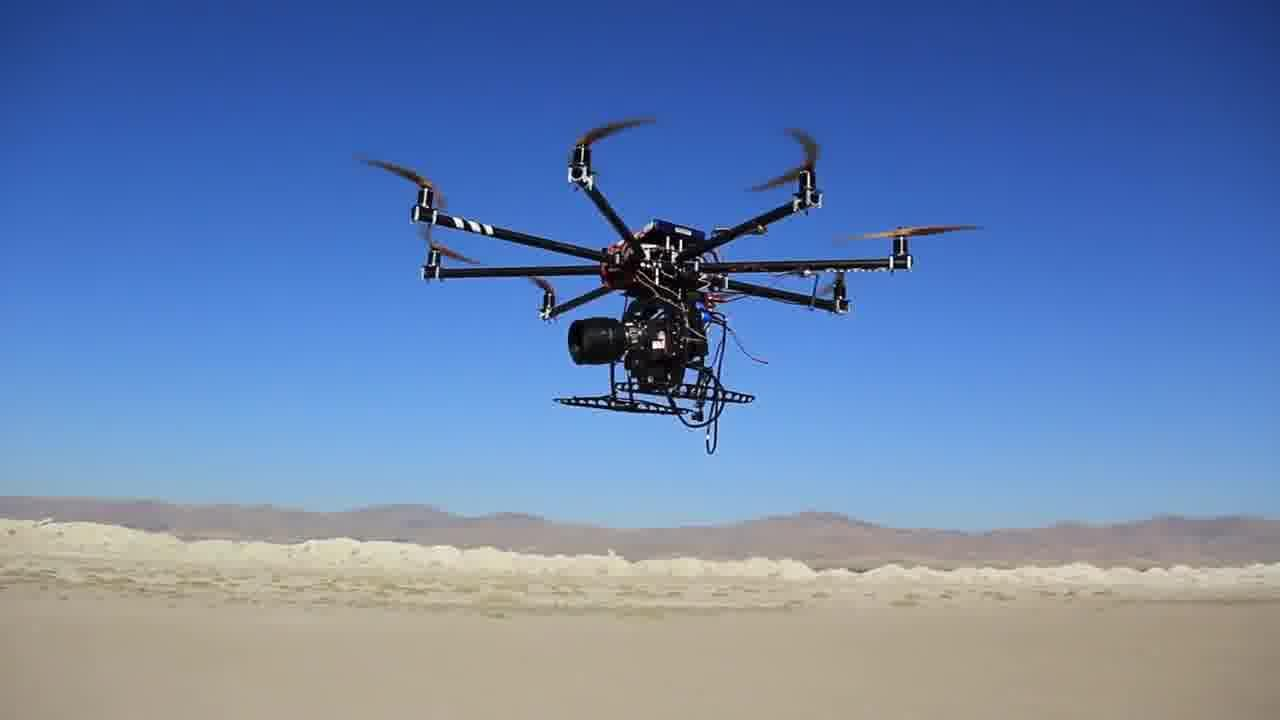drone: (360, 98, 856, 427)
